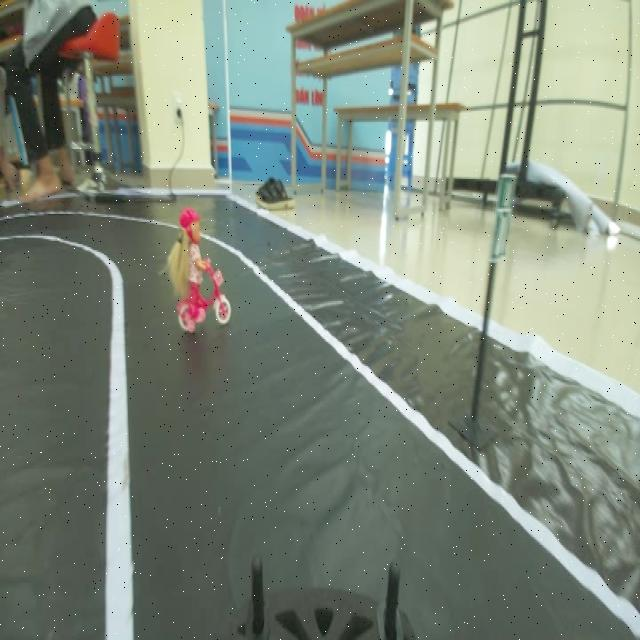highway_entry: (485, 166, 519, 270)
pedestrian: (151, 210, 237, 335)
